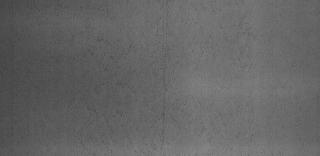silk spot: (174, 7, 312, 144), (64, 11, 168, 119)
